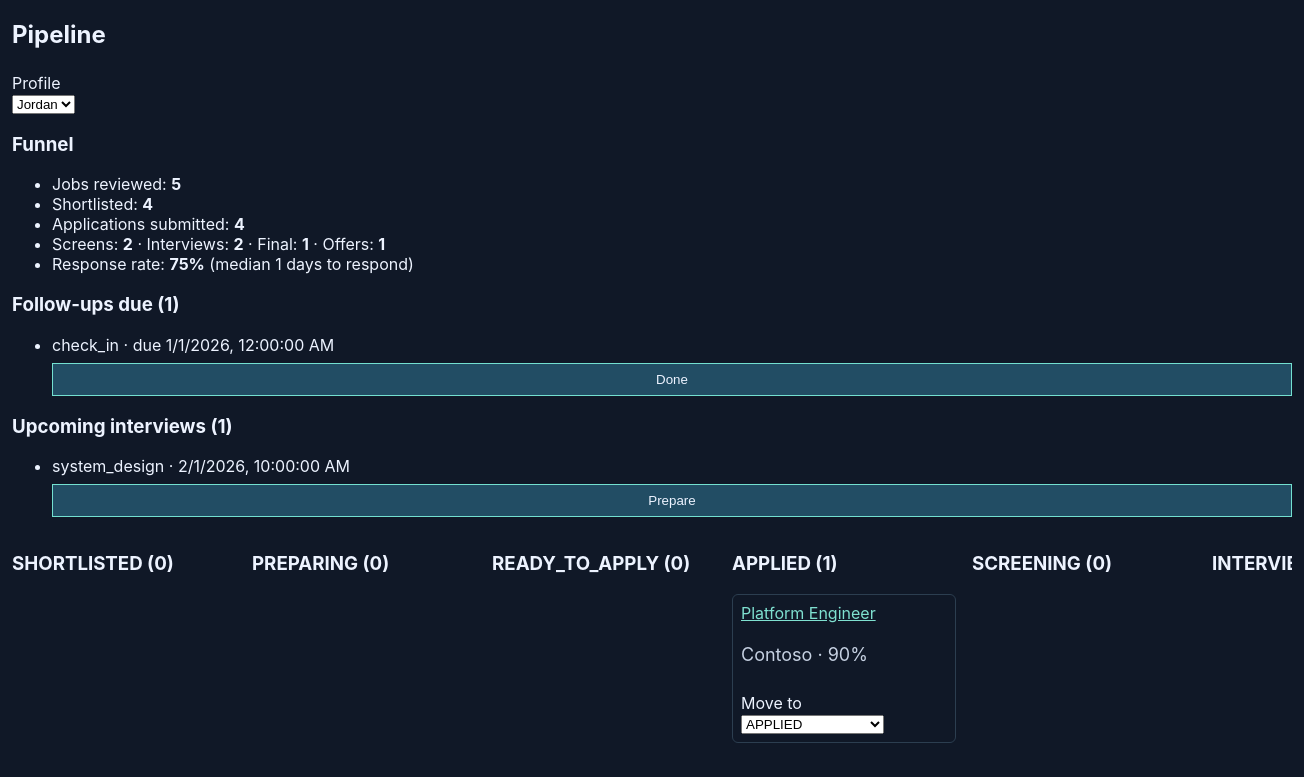
Test: Pipeline › prepares an upcoming interview and shows grounded suggestions and weak spots
Click the button "Prepare".
click(672, 501)  # box [52,484,1292,517]
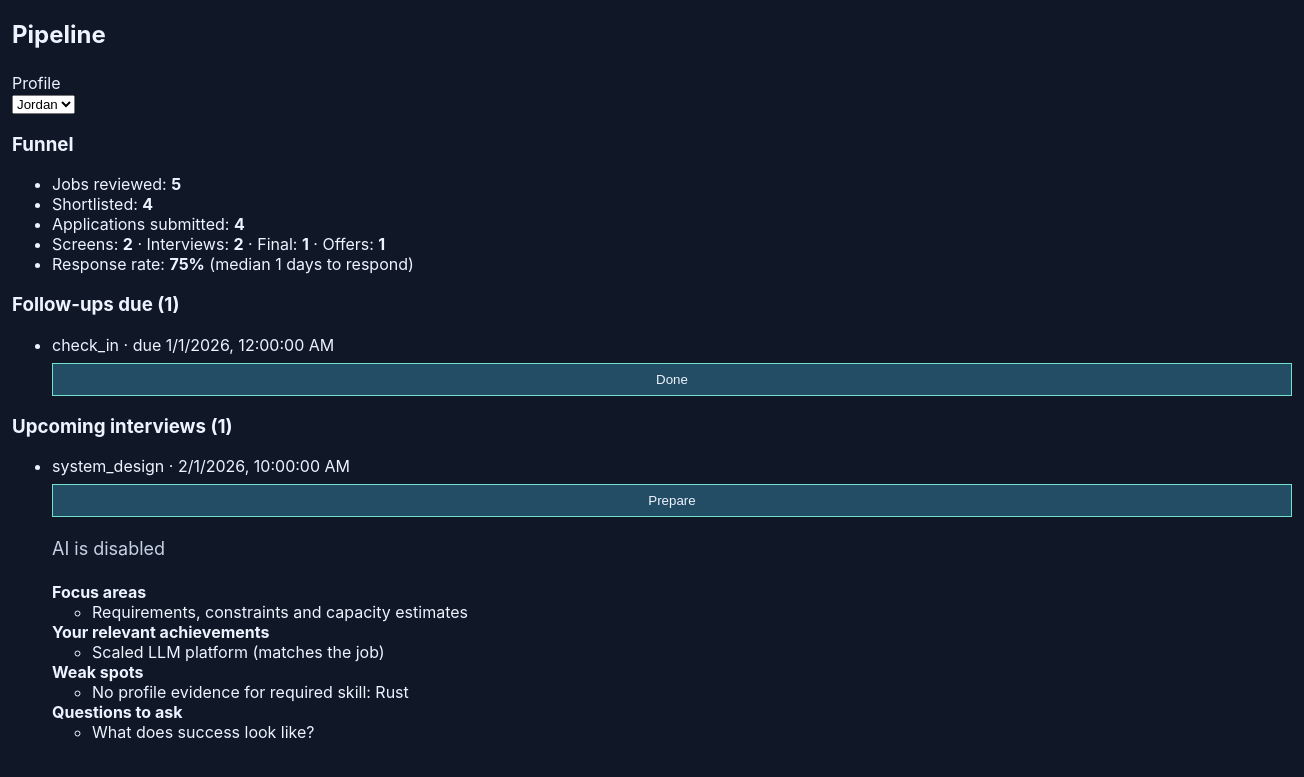
Expected: the list item "Scaled LLM platform (matches the job)" is shown, [92,642,385,662]
Expected: the list item "No profile evidence for required skill: Rust" is shown, [92,682,409,702]
Expected: the list item "What does success look like?" is shown, [92,722,314,742]
